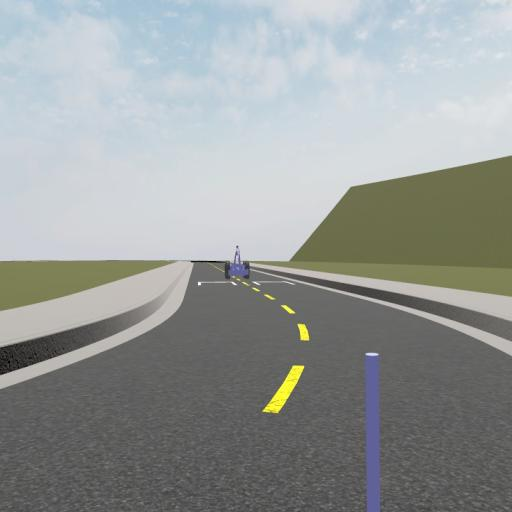ERP-42: (224, 244, 251, 281)
